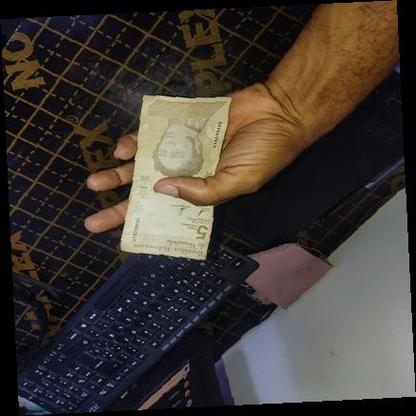five-front-vef: (119, 94, 232, 260)
